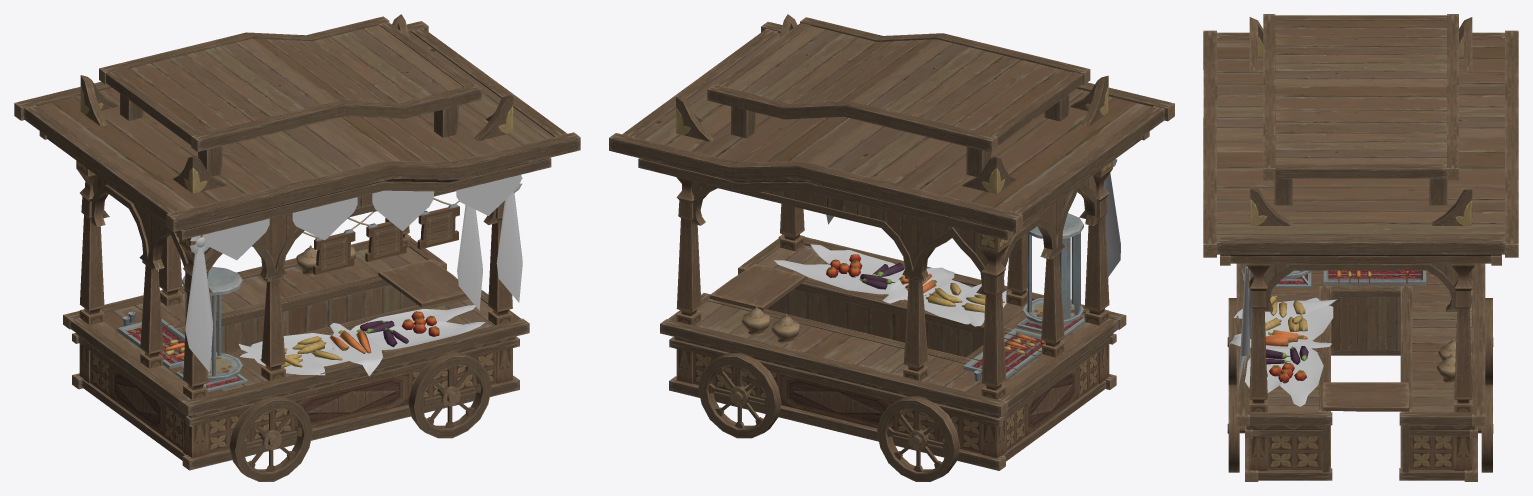
File: Homeworld_Exterior_Xm_Build_XKCtanwei_02_Lod0.fbx
3 renders of one model, left to right at view 1: azimuth 30°, elevation 25°; view 2: azimuth 150°, elevation 25°; view 3: azimuth 270°, elevation 25°, orthographic.
Parts seen in each view (by area): view 1: Homeworld_Exterior_Xm_Build_XKCtanwei_02_Lod0; view 2: Homeworld_Exterior_Xm_Build_XKCtanwei_02_Lod0; view 3: Homeworld_Exterior_Xm_Build_XKCtanwei_02_Lod0.
Part boxes in pixels (x1,y1,x2,y2): Homeworld_Exterior_Xm_Build_XKCtanwei_02_Lod0: (14,14,580,481); Homeworld_Exterior_Xm_Build_XKCtanwei_02_Lod0: (609,14,1174,481); Homeworld_Exterior_Xm_Build_XKCtanwei_02_Lod0: (1203,14,1518,481).
Size of what is drawn, in the model's own units: 4.2 by 3.38 by 2.84.
